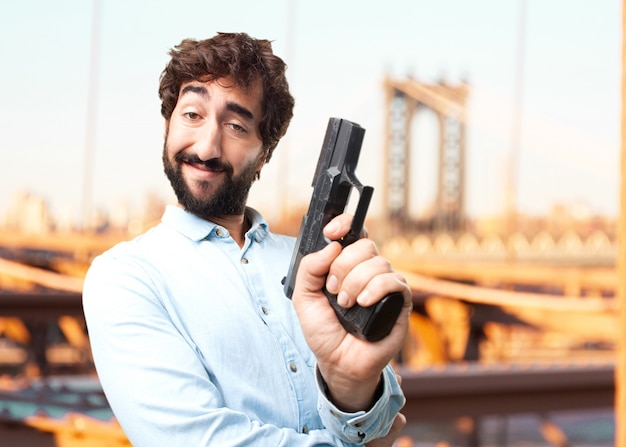gun: (278, 114, 403, 343)
